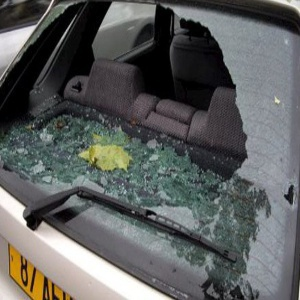rear_windshield_glass: (19, 20, 280, 271)
